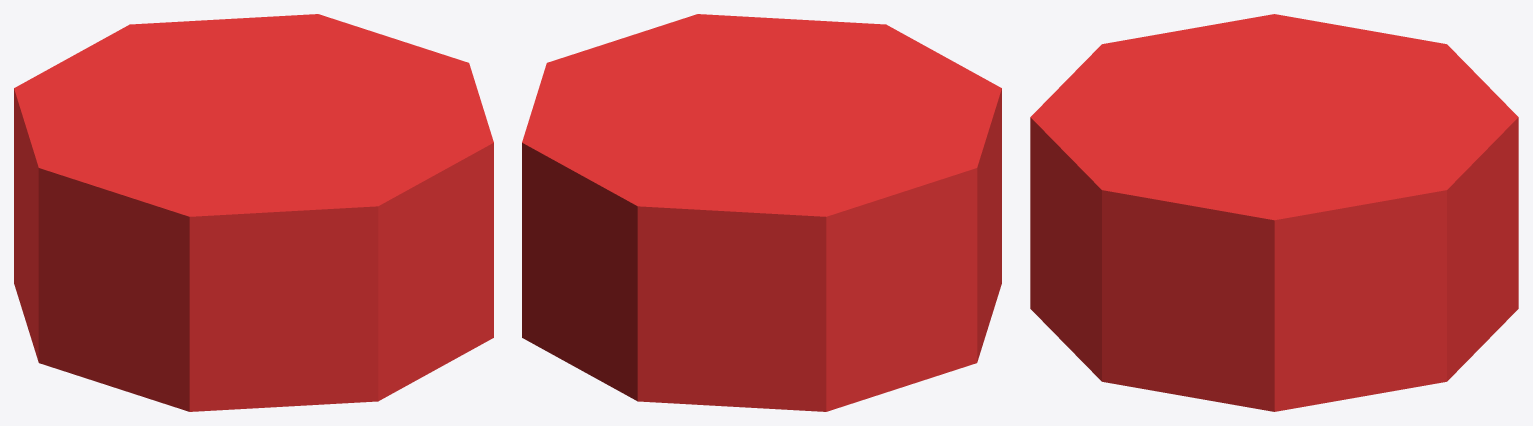
The model's file is music_choice_button.glb.
3 views of the same model, side by side, from view 1: azimuth 30°, elevation 25°; view 2: azimuth 150°, elevation 25°; view 3: azimuth 270°, elevation 25° (orthographic).
Visible parts, largest first — view 1: cylinderVertex; view 2: cylinderVertex; view 3: cylinderVertex.
Boxes of the visible parts, bbox=[...] form: cylinderVertex: bbox=[14, 14, 493, 411]; cylinderVertex: bbox=[522, 14, 1001, 411]; cylinderVertex: bbox=[1030, 14, 1518, 411].
Bounding box in the file's own units: 3 × 1.3 × 3.
